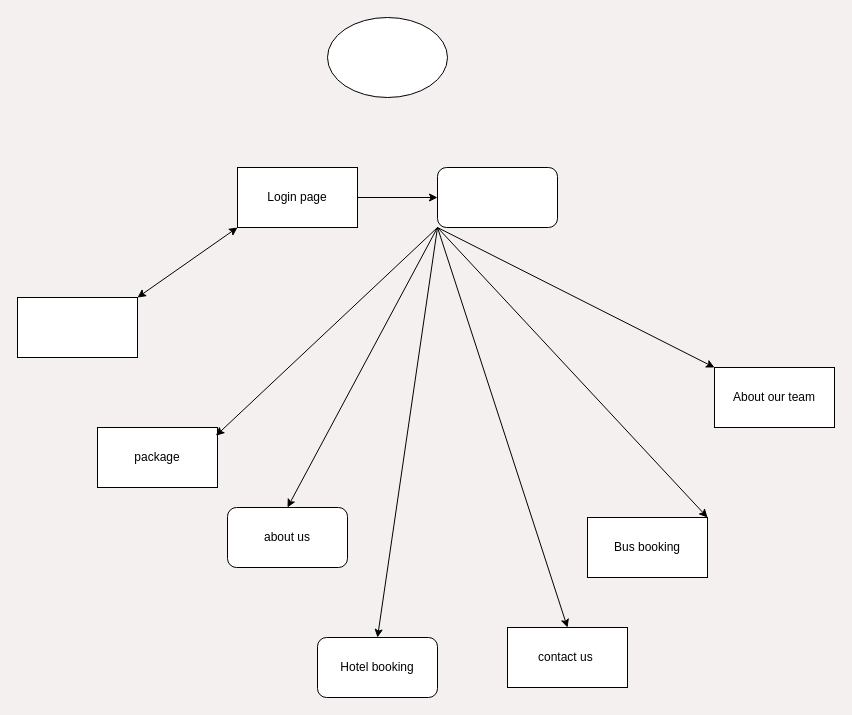
This 852x715 diagram has some shape labels left out. Here are the shapes that lost their labels. From the top down, the centre of each, then its label:
At point 387,57: "TRAVEL AND TOURISM".
At point 497,197: "Home page".
At point 77,327: "Change password for user".
